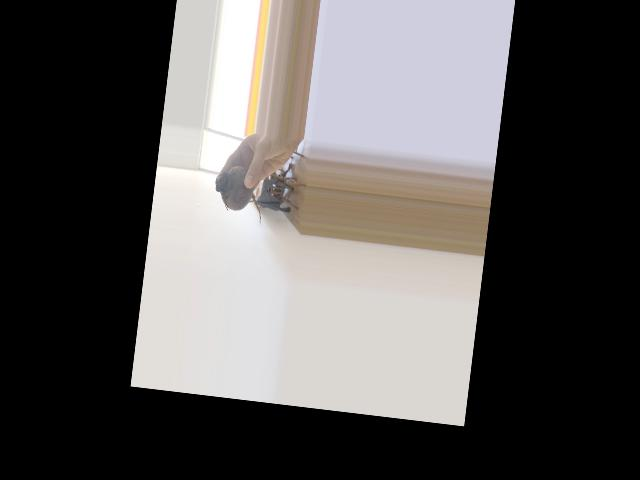beet: (211, 164, 267, 225)
